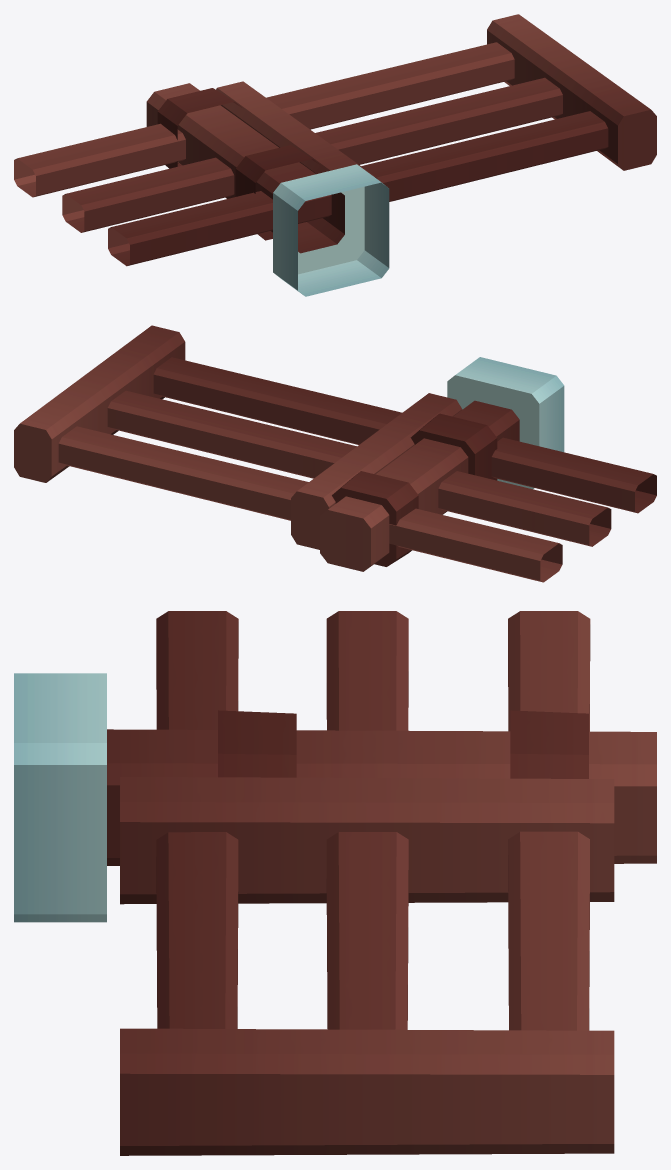
The model's file is Wooden Fence.FBX.
3 renders of one model, top to bottom at view 1: azimuth 30°, elevation 25°; view 2: azimuth 150°, elevation 25°; view 3: azimuth 270°, elevation 25°, orthographic. The views are drawn at different scales.
Visible parts, largest first — view 1: Wooden Fence Gate, Wooden Fence Mid, Wooden Fence Pillar; view 2: Wooden Fence Gate, Wooden Fence Mid, Wooden Fence Pillar; view 3: Wooden Fence Gate, Wooden Fence Pillar, Wooden Fence Mid.
Part boxes in pixels (<box>): Wooden Fence Gate: <box>216,14,656,201</box>; Wooden Fence Mid: <box>14,123,331,266</box>; Wooden Fence Pillar: <box>146,83,389,296</box>; Wooden Fence Gate: <box>14,325,462,549</box>; Wooden Fence Mid: <box>389,437,656,582</box>; Wooden Fence Pillar: <box>320,357,564,571</box>; Wooden Fence Gate: <box>120,777,614,1155</box>; Wooden Fence Pillar: <box>14,673,656,922</box>; Wooden Fence Mid: <box>156,611,590,731</box>.
Bounding box in the file's own units: 190 × 33.6 × 109.
Materials: 1 (1 with a texture image).
